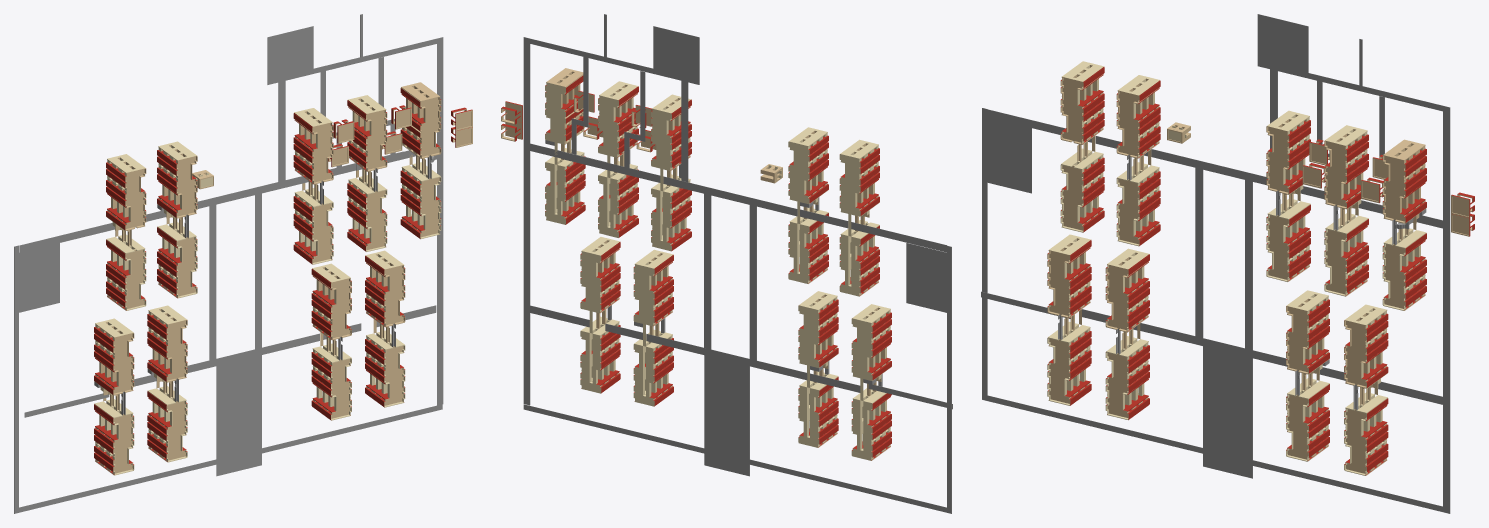
File: HALL 4 v1.fbx
3 views of the same model, side by side, from view 1: azimuth 30°, elevation 25°; view 2: azimuth 150°, elevation 25°; view 3: azimuth 330°, elevation 25° (orthographic). The views are drawn at different scales.
Parts seen in each view (by area): view 1: Body21, Body13, Body40, Body26, Body31, Body45, Body22, Body36, Body19, Body17, Body1, Body3 (+9 smaller); view 2: Body21, Body13, Body36, Body31, Body26, Body45, Body40, Body22, Body17, Body37, Body1, Body19 (+9 smaller); view 3: Body21, Body13, Body36, Body22, Body40, Body31, Body26, Body45, Body1, Body17, Body19, Body32 (+10 smaller).
Part boxes in pixels (x1,y1,x2,y2): Body21: [14, 71, 442, 513]; Body13: [267, 14, 443, 405]; Body40: [147, 305, 187, 397]; Body26: [157, 141, 197, 234]; Body31: [106, 154, 146, 246]; Body45: [94, 318, 134, 410]; Body22: [311, 263, 351, 355]; Body36: [365, 250, 405, 343]; Body19: [293, 108, 333, 200]; Body17: [347, 95, 387, 187]; Body1: [400, 82, 441, 174]; Body3: [400, 162, 441, 239]; Body21: [523, 71, 951, 513]; Body13: [523, 14, 699, 405]; Body36: [580, 237, 620, 333]; Body31: [839, 139, 879, 236]; Body26: [788, 127, 828, 223]; Body45: [851, 304, 891, 400]; Body40: [798, 291, 838, 387]; Body22: [633, 249, 673, 346]; Body17: [598, 81, 638, 177]; Body37: [580, 316, 620, 393]; Body1: [545, 68, 584, 164]; Body19: [651, 94, 691, 191]; Body21: [982, 81, 1450, 513]; Body13: [1257, 14, 1450, 508]; Body36: [1344, 304, 1388, 405]; Body22: [1286, 290, 1329, 391]; Body40: [1105, 248, 1149, 349]; Body31: [1060, 61, 1104, 162]; Body26: [1116, 75, 1160, 175]; Body45: [1047, 234, 1091, 335]; Body1: [1382, 139, 1426, 240]; Body17: [1324, 125, 1368, 226]; Body19: [1266, 110, 1310, 211]; Body32: [1060, 148, 1104, 232].
Bounding box in the file's own units: 161 × 145 × 12.43.
